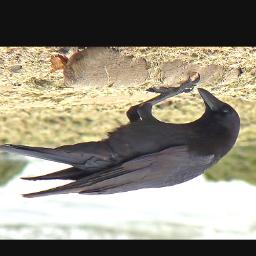Crow: (0, 71, 241, 198)
